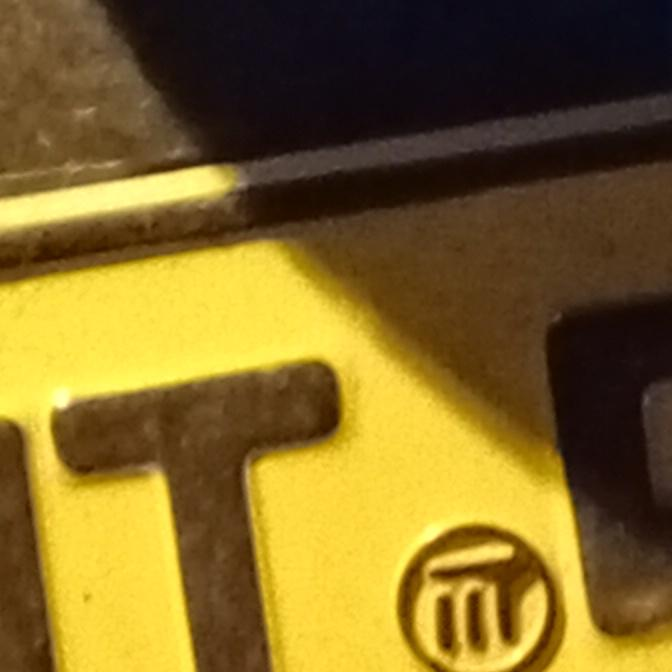plates: (0, 79, 672, 672)
